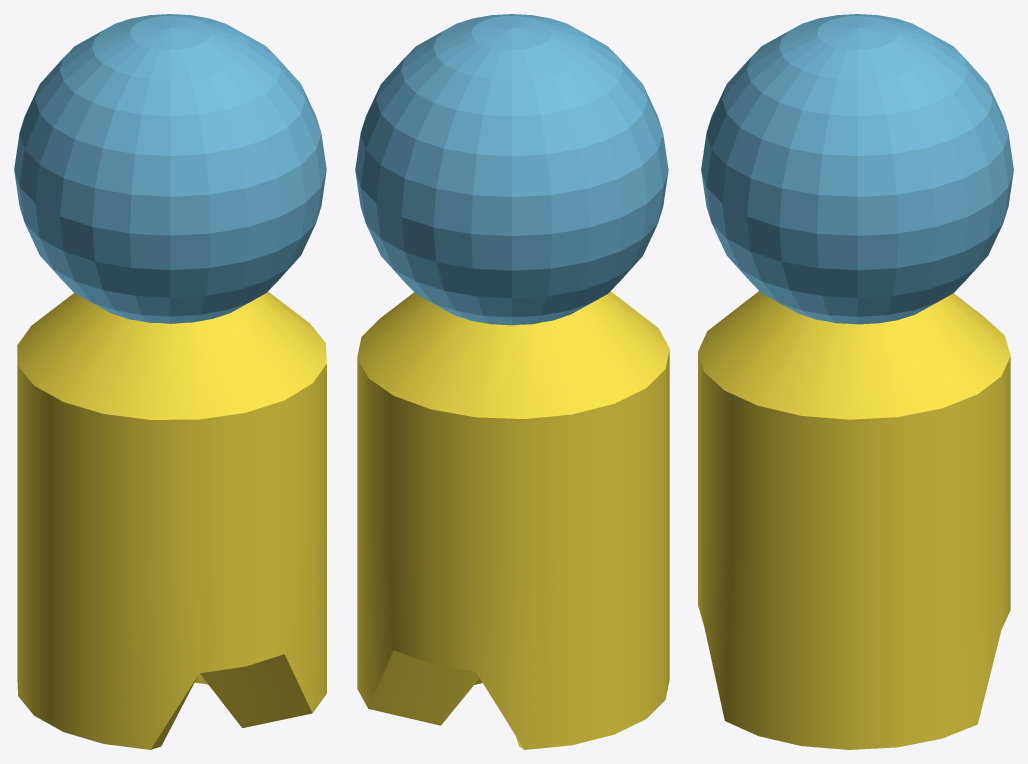
File: yellow.gltf
3 renders of one model, left to right at view 1: azimuth 30°, elevation 25°; view 2: azimuth 150°, elevation 25°; view 3: azimuth 270°, elevation 25°, orthographic.
Visible parts, largest first — view 1: Цилиндр, Сфера; view 2: Цилиндр, Сфера; view 3: Цилиндр, Сфера.
Boxes of the visible parts, x1,y1,x2,y2 form: Цилиндр: (17, 291, 326, 749); Сфера: (14, 14, 326, 323); Цилиндр: (357, 291, 669, 749); Сфера: (355, 14, 668, 325); Цилиндр: (698, 291, 1010, 749); Сфера: (701, 14, 1013, 324).
Size of the model in its own units: 1 by 2.42 by 1.01.
